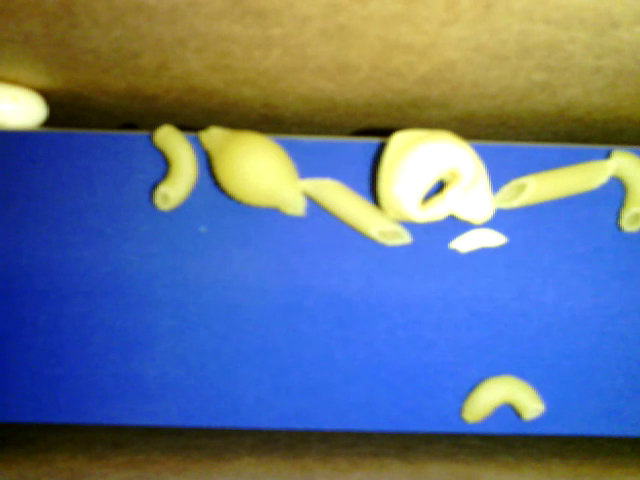elbow: (150, 121, 199, 211), (460, 374, 545, 423), (608, 148, 639, 232)
penne: (297, 176, 413, 248), (489, 158, 621, 208)
shell: (198, 125, 308, 217)
tortellini: (377, 126, 495, 225)
